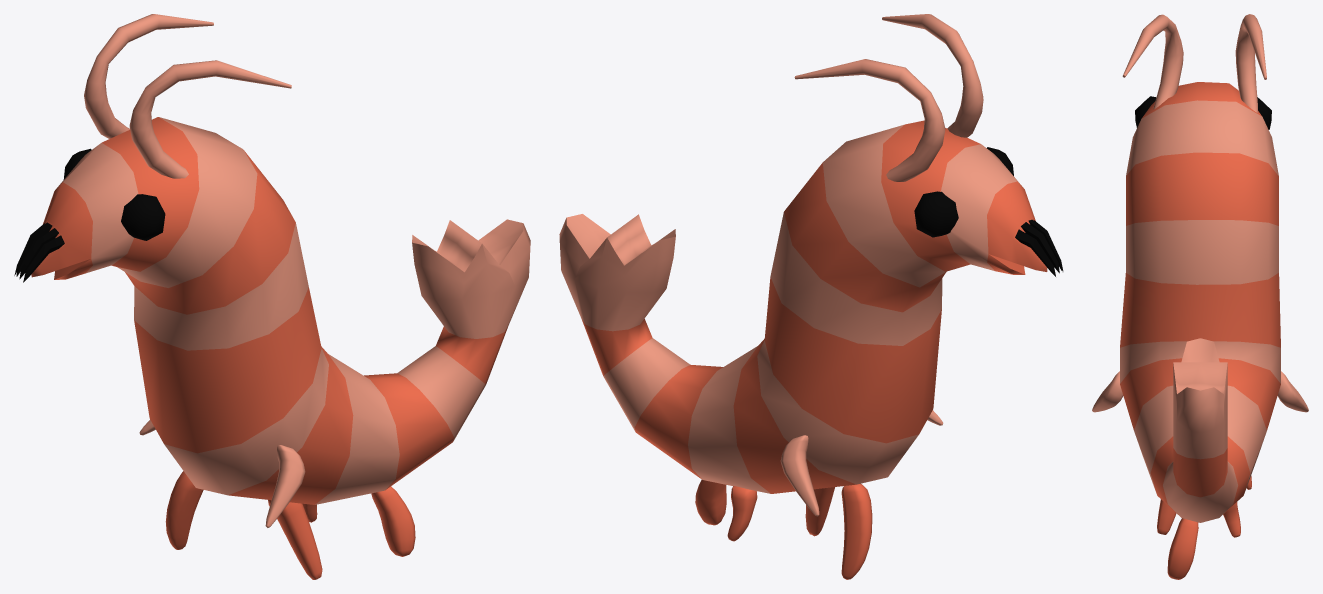
File: shrimp_man.fbx
3 views of the same model, side by side, from view 1: azimuth 30°, elevation 25°; view 2: azimuth 150°, elevation 25°; view 3: azimuth 270°, elevation 25° (orthographic). The views are drawn at different scales.
Visible parts, largest first — view 1: shrimp_model; view 2: shrimp_model; view 3: shrimp_model.
Part boxes in pixels (bbox=[...]): shrimp_model: bbox=[14, 14, 530, 579]; shrimp_model: bbox=[559, 14, 1063, 579]; shrimp_model: bbox=[1092, 14, 1308, 579].
Bounding box in the file's own units: 86.9 × 90.2 × 37.81.
